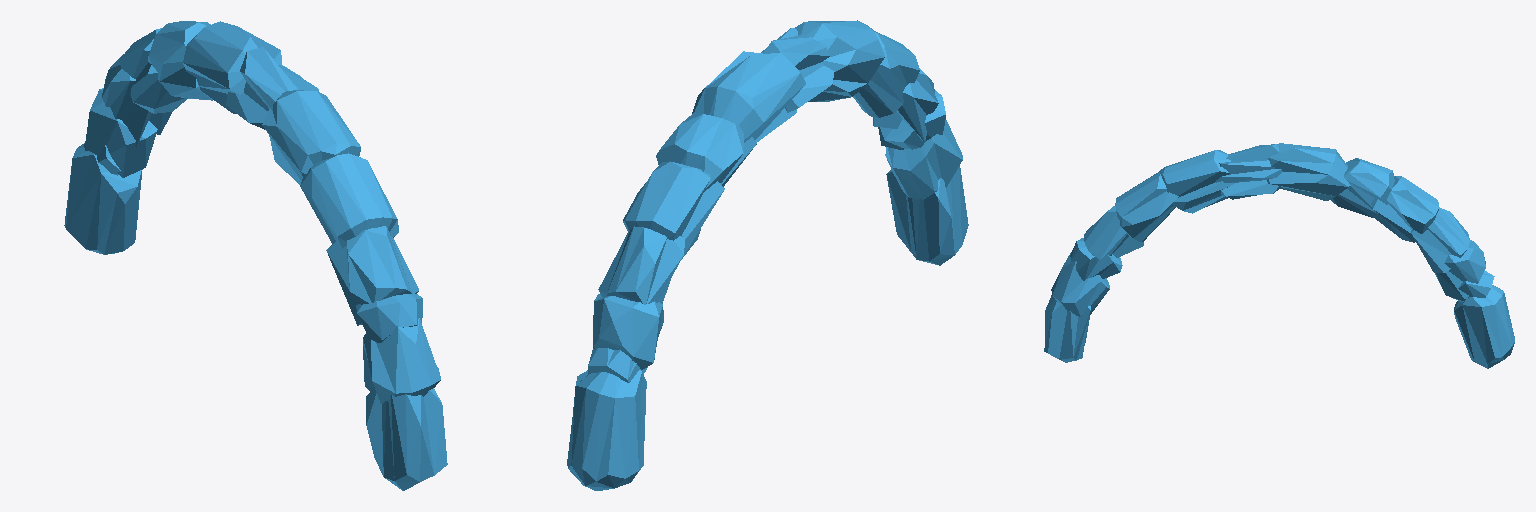
The robot description file, URDF, robot "partnet_c377cffe09ca11a57b6fd5468f603b31":
<?xml version="1.0" ?><robot name="partnet_c377cffe09ca11a57b6fd5468f603b31">
	<link name="base"/>
	<link name="link_0">
		<visual>
			<origin xyz="1.1415310340218707e-06 -0.4779415863575636 -0.016658861056517284"/>
			<geometry>
				<mesh filename="new_objs/100473_link_0_9.obj"/>
			</geometry>
		</visual>
	<visual>
			<origin xyz="1.1415310340218707e-06 -0.4779415863575636 -0.016658861056517284"/>
			<geometry>
				<mesh filename="new_objs/100473_link_0_8.obj"/>
			</geometry>
		</visual>
	<visual>
			<origin xyz="1.1415310340218707e-06 -0.4779415863575636 -0.016658861056517284"/>
			<geometry>
				<mesh filename="new_objs/100473_link_0_6.obj"/>
			</geometry>
		</visual>
	<visual>
			<origin xyz="1.1415310340218707e-06 -0.4779415863575636 -0.016658861056517284"/>
			<geometry>
				<mesh filename="new_objs/100473_link_0_0.obj"/>
			</geometry>
		</visual>
	<visual>
			<origin xyz="1.1415310340218707e-06 -0.4779415863575636 -0.016658861056517284"/>
			<geometry>
				<mesh filename="new_objs/100473_link_0_1.obj"/>
			</geometry>
		</visual>
	<visual>
			<origin xyz="1.1415310340218707e-06 -0.4779415863575636 -0.016658861056517284"/>
			<geometry>
				<mesh filename="new_objs/100473_link_0_7.obj"/>
			</geometry>
		</visual>
	<visual>
			<origin xyz="1.1415310340218707e-06 -0.4779415863575636 -0.016658861056517284"/>
			<geometry>
				<mesh filename="new_objs/100473_link_0_3.obj"/>
			</geometry>
		</visual>
	<visual>
			<origin xyz="1.1415310340218707e-06 -0.4779415863575636 -0.016658861056517284"/>
			<geometry>
				<mesh filename="new_objs/100473_link_0_12.obj"/>
			</geometry>
		</visual>
	<visual>
			<origin xyz="1.1415310340218707e-06 -0.4779415863575636 -0.016658861056517284"/>
			<geometry>
				<mesh filename="new_objs/100473_link_0_11.obj"/>
			</geometry>
		</visual>
	<visual>
			<origin xyz="1.1415310340218707e-06 -0.4779415863575636 -0.016658861056517284"/>
			<geometry>
				<mesh filename="new_objs/100473_link_0_5.obj"/>
			</geometry>
		</visual>
	<visual>
			<origin xyz="1.1415310340218707e-06 -0.4779415863575636 -0.016658861056517284"/>
			<geometry>
				<mesh filename="new_objs/100473_link_0_4.obj"/>
			</geometry>
		</visual>
	<visual>
			<origin xyz="1.1415310340218707e-06 -0.4779415863575636 -0.016658861056517284"/>
			<geometry>
				<mesh filename="new_objs/100473_link_0_13.obj"/>
			</geometry>
		</visual>
	<visual>
			<origin xyz="1.1415310340218707e-06 -0.4779415863575636 -0.016658861056517284"/>
			<geometry>
				<mesh filename="new_objs/100473_link_0_2.obj"/>
			</geometry>
		</visual>
	<visual>
			<origin xyz="1.1415310340218707e-06 -0.4779415863575636 -0.016658861056517284"/>
			<geometry>
				<mesh filename="new_objs/100473_link_0_10.obj"/>
			</geometry>
		</visual>
	
		<collision>
			<origin xyz="1.1415310340218707e-06 -0.4779415863575636 -0.016658861056517284"/>
			<geometry>
				<mesh filename="new_objs/100473_link_0_9.obj"/>
			</geometry>
		</collision><collision>
			<origin xyz="1.1415310340218707e-06 -0.4779415863575636 -0.016658861056517284"/>
			<geometry>
				<mesh filename="new_objs/100473_link_0_8.obj"/>
			</geometry>
		</collision><collision>
			<origin xyz="1.1415310340218707e-06 -0.4779415863575636 -0.016658861056517284"/>
			<geometry>
				<mesh filename="new_objs/100473_link_0_6.obj"/>
			</geometry>
		</collision><collision>
			<origin xyz="1.1415310340218707e-06 -0.4779415863575636 -0.016658861056517284"/>
			<geometry>
				<mesh filename="new_objs/100473_link_0_0.obj"/>
			</geometry>
		</collision><collision>
			<origin xyz="1.1415310340218707e-06 -0.4779415863575636 -0.016658861056517284"/>
			<geometry>
				<mesh filename="new_objs/100473_link_0_1.obj"/>
			</geometry>
		</collision><collision>
			<origin xyz="1.1415310340218707e-06 -0.4779415863575636 -0.016658861056517284"/>
			<geometry>
				<mesh filename="new_objs/100473_link_0_7.obj"/>
			</geometry>
		</collision><collision>
			<origin xyz="1.1415310340218707e-06 -0.4779415863575636 -0.016658861056517284"/>
			<geometry>
				<mesh filename="new_objs/100473_link_0_3.obj"/>
			</geometry>
		</collision><collision>
			<origin xyz="1.1415310340218707e-06 -0.4779415863575636 -0.016658861056517284"/>
			<geometry>
				<mesh filename="new_objs/100473_link_0_12.obj"/>
			</geometry>
		</collision><collision>
			<origin xyz="1.1415310340218707e-06 -0.4779415863575636 -0.016658861056517284"/>
			<geometry>
				<mesh filename="new_objs/100473_link_0_11.obj"/>
			</geometry>
		</collision><collision>
			<origin xyz="1.1415310340218707e-06 -0.4779415863575636 -0.016658861056517284"/>
			<geometry>
				<mesh filename="new_objs/100473_link_0_5.obj"/>
			</geometry>
		</collision><collision>
			<origin xyz="1.1415310340218707e-06 -0.4779415863575636 -0.016658861056517284"/>
			<geometry>
				<mesh filename="new_objs/100473_link_0_4.obj"/>
			</geometry>
		</collision><collision>
			<origin xyz="1.1415310340218707e-06 -0.4779415863575636 -0.016658861056517284"/>
			<geometry>
				<mesh filename="new_objs/100473_link_0_13.obj"/>
			</geometry>
		</collision><collision>
			<origin xyz="1.1415310340218707e-06 -0.4779415863575636 -0.016658861056517284"/>
			<geometry>
				<mesh filename="new_objs/100473_link_0_2.obj"/>
			</geometry>
		</collision><collision>
			<origin xyz="1.1415310340218707e-06 -0.4779415863575636 -0.016658861056517284"/>
			<geometry>
				<mesh filename="new_objs/100473_link_0_10.obj"/>
			</geometry>
		</collision></link>
	<joint name="joint_0" type="revolute">
		<origin xyz="-1.1415310340218707e-06 0.4779415863575636 0.016658861056517284"/>
		<axis xyz="-1 0 -0.013"/>
		<child link="link_0"/>
		<parent link="link_1"/>
		<limit lower="-1.5707963267948966" upper="1.5707963267948966"/>
	</joint>
	<link name="link_1">
		<collision>
			<origin xyz="0 0 0"/>
			<geometry>
				<mesh filename="new_objs/100473_link_1_21.obj"/>
			</geometry>
		</collision>
		<collision>
			<origin xyz="0 0 0"/>
			<geometry>
				<mesh filename="new_objs/100473_link_1_5.obj"/>
			</geometry>
		</collision>
		<collision>
			<origin xyz="0 0 0"/>
			<geometry>
				<mesh filename="new_objs/100473_link_1_7.obj"/>
			</geometry>
		</collision>
		<collision>
			<origin xyz="0 0 0"/>
			<geometry>
				<mesh filename="new_objs/100473_link_1_20.obj"/>
			</geometry>
		</collision>
		<collision>
			<origin xyz="0 0 0"/>
			<geometry>
				<mesh filename="new_objs/100473_link_1_1.obj"/>
			</geometry>
		</collision>
		<collision>
			<origin xyz="0 0 0"/>
			<geometry>
				<mesh filename="new_objs/100473_link_1_10.obj"/>
			</geometry>
		</collision>
		<collision>
			<origin xyz="0 0 0"/>
			<geometry>
				<mesh filename="new_objs/100473_link_1_18.obj"/>
			</geometry>
		</collision>
		<collision>
			<origin xyz="0 0 0"/>
			<geometry>
				<mesh filename="new_objs/100473_link_1_15.obj"/>
			</geometry>
		</collision>
		<collision>
			<origin xyz="0 0 0"/>
			<geometry>
				<mesh filename="new_objs/100473_link_1_2.obj"/>
			</geometry>
		</collision>
		<collision>
			<origin xyz="0 0 0"/>
			<geometry>
				<mesh filename="new_objs/100473_link_1_4.obj"/>
			</geometry>
		</collision>
		<collision>
			<origin xyz="0 0 0"/>
			<geometry>
				<mesh filename="new_objs/100473_link_1_14.obj"/>
			</geometry>
		</collision>
		<collision>
			<origin xyz="0 0 0"/>
			<geometry>
				<mesh filename="new_objs/100473_link_1_19.obj"/>
			</geometry>
		</collision>
		<collision>
			<origin xyz="0 0 0"/>
			<geometry>
				<mesh filename="new_objs/100473_link_1_17.obj"/>
			</geometry>
		</collision>
		<collision>
			<origin xyz="0 0 0"/>
			<geometry>
				<mesh filename="new_objs/100473_link_1_9.obj"/>
			</geometry>
		</collision>
		<collision>
			<origin xyz="0 0 0"/>
			<geometry>
				<mesh filename="new_objs/100473_link_1_12.obj"/>
			</geometry>
		</collision>
		<collision>
			<origin xyz="0 0 0"/>
			<geometry>
				<mesh filename="new_objs/100473_link_1_8.obj"/>
			</geometry>
		</collision>
		<collision>
			<origin xyz="0 0 0"/>
			<geometry>
				<mesh filename="new_objs/100473_link_1_11.obj"/>
			</geometry>
		</collision>
		<collision>
			<origin xyz="0 0 0"/>
			<geometry>
				<mesh filename="new_objs/100473_link_1_3.obj"/>
			</geometry>
		</collision>
		<collision>
			<origin xyz="0 0 0"/>
			<geometry>
				<mesh filename="new_objs/100473_link_1_16.obj"/>
			</geometry>
		</collision>
		<collision>
			<origin xyz="0 0 0"/>
			<geometry>
				<mesh filename="new_objs/100473_link_1_0.obj"/>
			</geometry>
		</collision>
		<collision>
			<origin xyz="0 0 0"/>
			<geometry>
				<mesh filename="new_objs/100473_link_1_13.obj"/>
			</geometry>
		</collision>
		<collision>
			<origin xyz="0 0 0"/>
			<geometry>
				<mesh filename="new_objs/100473_link_1_6.obj"/>
			</geometry>
		</collision>
		<visual name="base_body-part[&quot;id]">
			<origin xyz="0 0 0"/>
			<geometry>
				<mesh filename="textured_objs/original-2.obj"/>
			</geometry>
		</visual>
		<visual name="base_body-part[&quot;id]">
			<origin xyz="0 0 0"/>
			<geometry>
				<mesh filename="textured_objs/original-1.obj"/>
			</geometry>
		</visual>
		</link>
	<joint name="joint_1" type="fixed">
		<origin rpy="1.570796326794897 0 -1.570796326794897" xyz="0 0 0"/>
		<child link="link_1"/>
		<parent link="base"/>
	</joint>
</robot>

--- Render facts (derived) ---
3 views of the same robot in one strip: view 1: azimuth 30°, elevation 25°; view 2: azimuth 150°, elevation 25°; view 3: azimuth 270°, elevation 25° (orthographic).
Model partnet_c377cffe09ca11a57b6fd5468f603b31 with 3 links and 2 joints (1 revolute, 1 fixed), rooted at base, posed every joint at zero.
Visible links, largest first — view 1: link_0; view 2: link_0; view 3: link_0.
Link boxes in pixels (left/top/right/bottom): link_0: left=64, top=21, right=447, bottom=490; link_0: left=567, top=20, right=968, bottom=490; link_0: left=1044, top=143, right=1514, bottom=368.
Bounding box of the posed robot: 0.158 × 1.28 × 0.6676 m (x, y, z).
14 mesh visuals loaded from 16 distinct referenced files (14 OBJ); not drawn: 2 (reference not matched to a file when rendering).
